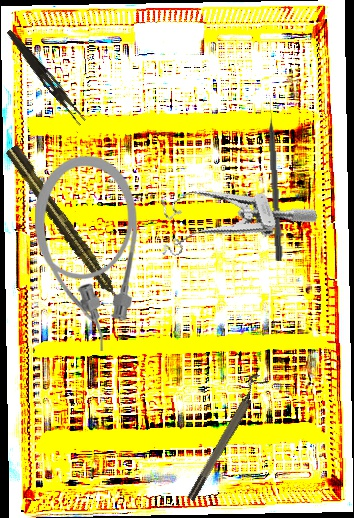Cannula: (35, 155, 137, 351)
Dressing Forceps: (1, 28, 90, 126)
Fixation Ring: (179, 371, 270, 503)
Handpiece: (3, 143, 129, 310)
Pusher: (266, 97, 285, 262)
Speculum: (146, 155, 319, 270)
